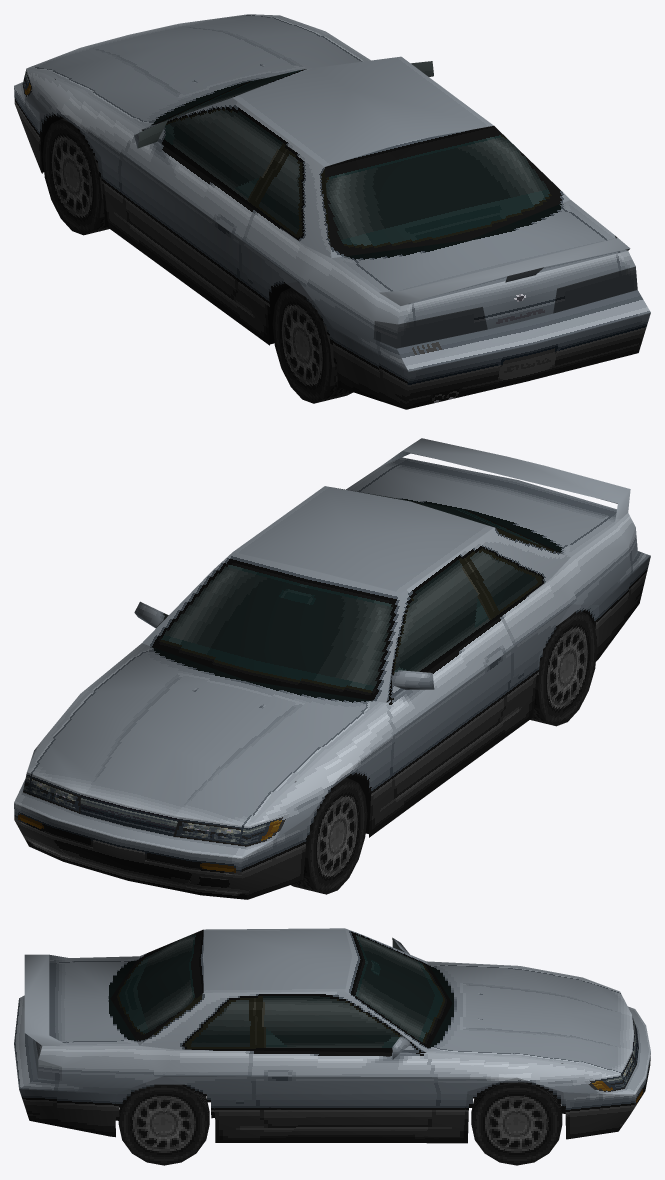
File: day.glb
The picture shows the model from 3 angles, top to bottom: view 1: azimuth 30°, elevation 25°; view 2: azimuth 150°, elevation 25°; view 3: azimuth 270°, elevation 25°; orthographic projection. The views are drawn at different scales.
Visible parts, largest first — view 1: Native body LOD0, Native wheel 2, Native wheel 0; view 2: Native body LOD0, Native wheel 0, Native wheel 2; view 3: Native body LOD0, Native wheel 1, Native wheel 3.
Part boxes in pixels (x1,y1,x2,y2): Native body LOD0: (14, 14, 650, 409); Native wheel 2: (272, 287, 353, 403); Native wheel 0: (42, 118, 109, 235); Native body LOD0: (14, 438, 650, 899); Native wheel 0: (291, 778, 367, 894); Native wheel 2: (530, 611, 597, 726); Native body LOD0: (14, 928, 650, 1143); Native wheel 1: (471, 1082, 562, 1165); Native wheel 3: (118, 1084, 209, 1165).
Bounding box in the file's own units: 1.84 × 1.28 × 4.47.
Materials: 12 (11 with a texture image).
